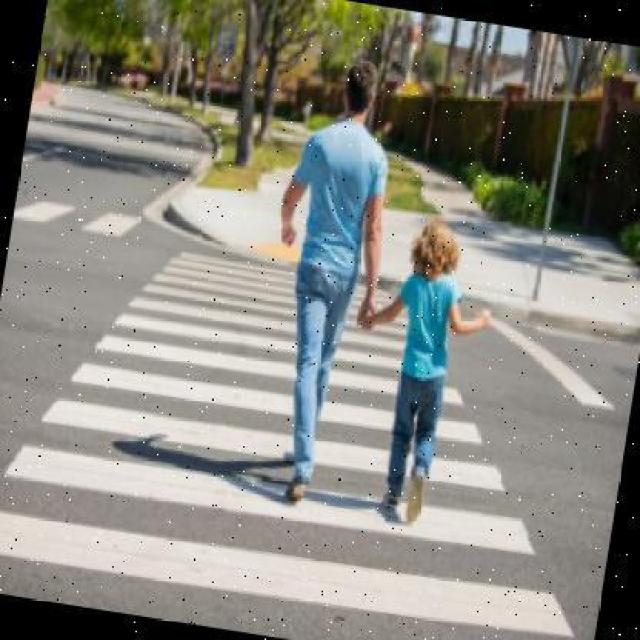Person: (245, 52, 409, 510), (334, 215, 503, 530)
